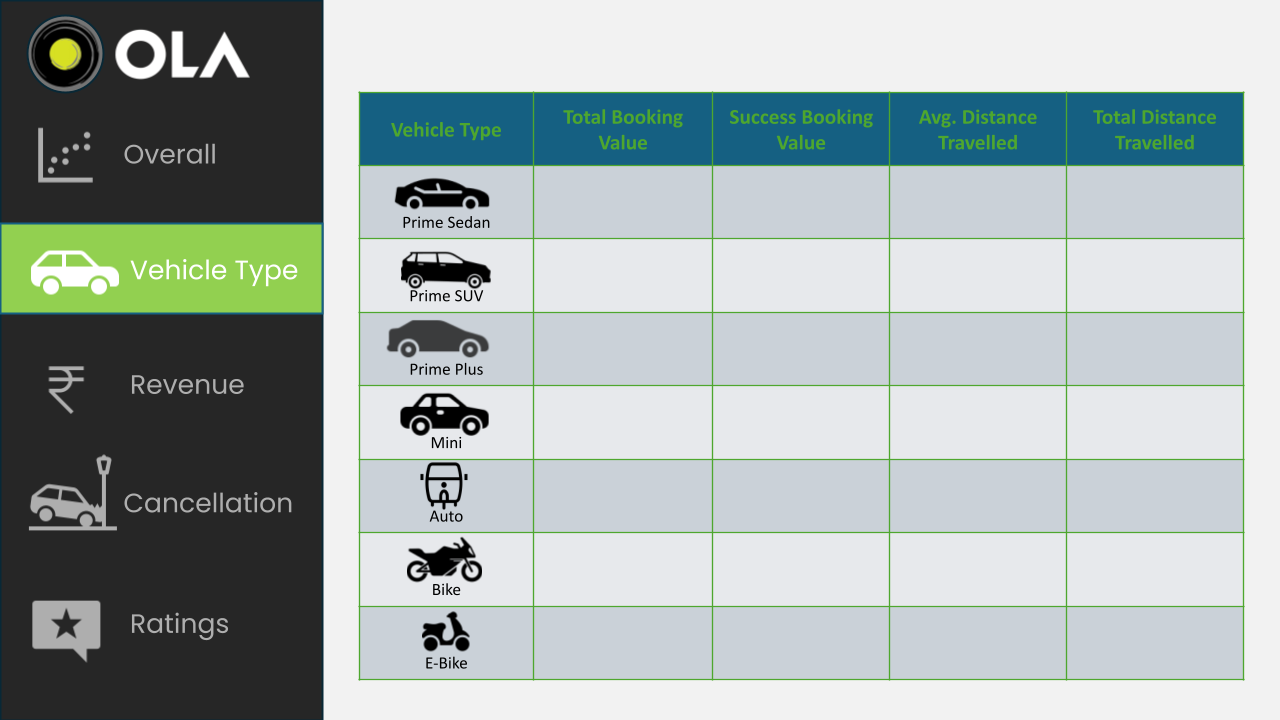

Layout of this report page (visuals, bound fields, positions):
{"tool":"powerbi","page":{"name":"Vehicle Type","canvas":[1920,1080],"ordinal":1},"visuals":[{"type":"actionButton","title":"Overall","box":[321.4,291.4,322.9,87.1],"z":0},{"type":"actionButton","title":"Vehicle Type","box":[321.4,378.6,322.9,122.9],"z":1},{"type":"actionButton","title":"Revenue","box":[321.4,501.4,322.9,118.6],"z":2},{"type":"actionButton","title":"Cancellation","box":[321.4,620,322.9,118.6],"z":3},{"type":"actionButton","title":"Ratings","box":[321.4,738.6,322.9,115.7],"z":4}]}

Visuals, with their boxes in screenshot pixels (x1, y1, x2, y2), scaled from the page's 1920x1080 canvas onto the 1280x720 screenshot:
"Overall" actionButton: [214, 194, 430, 252]
"Vehicle Type" actionButton: [214, 252, 430, 334]
"Revenue" actionButton: [214, 334, 430, 413]
"Cancellation" actionButton: [214, 413, 430, 492]
"Ratings" actionButton: [214, 492, 430, 570]
